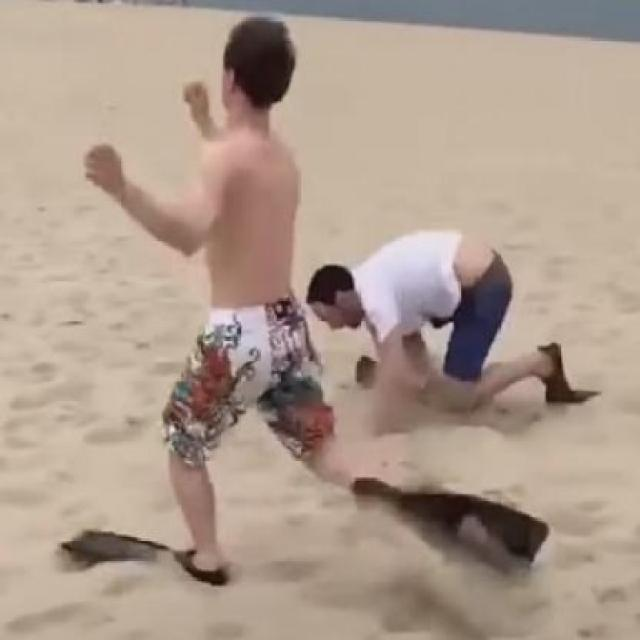fall: (304, 226, 594, 423)
